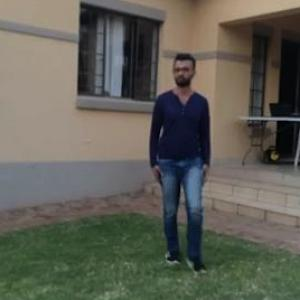follow: (144, 46, 214, 276)
